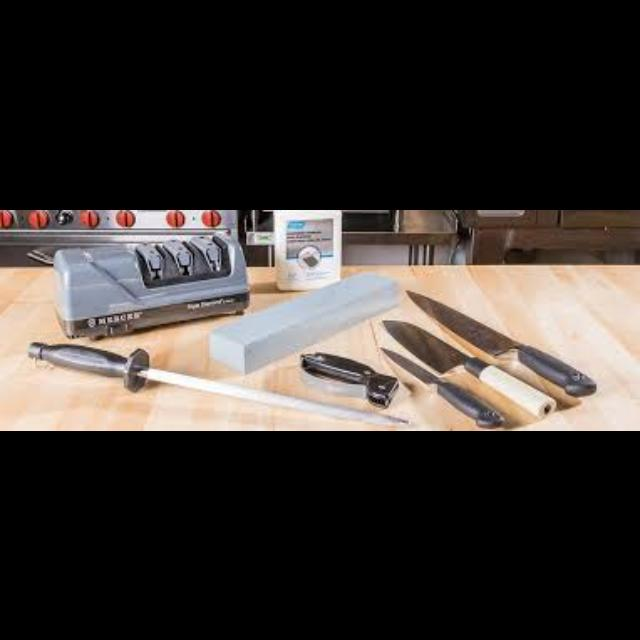knife: (404, 288, 596, 394), (380, 317, 556, 415), (378, 345, 504, 425)
